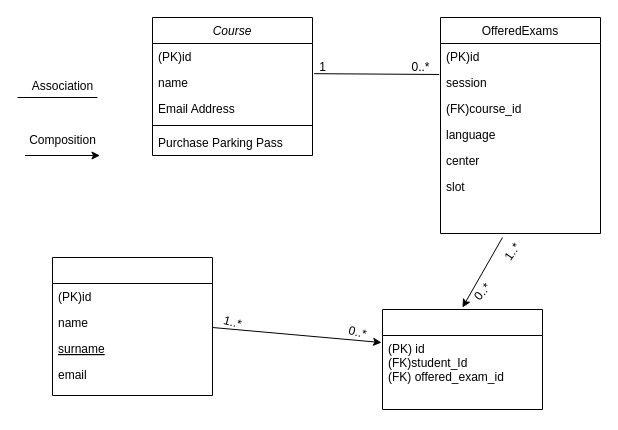
Image size: 618x430. Some labels were removed from this diagram. The shapes that lost their labels are listed below. From the top down, each one's box as (x1, y1, x2, y2) in pixels, then its label:
(52, 256, 212, 396): Student
(382, 308, 542, 410): StudentExams
